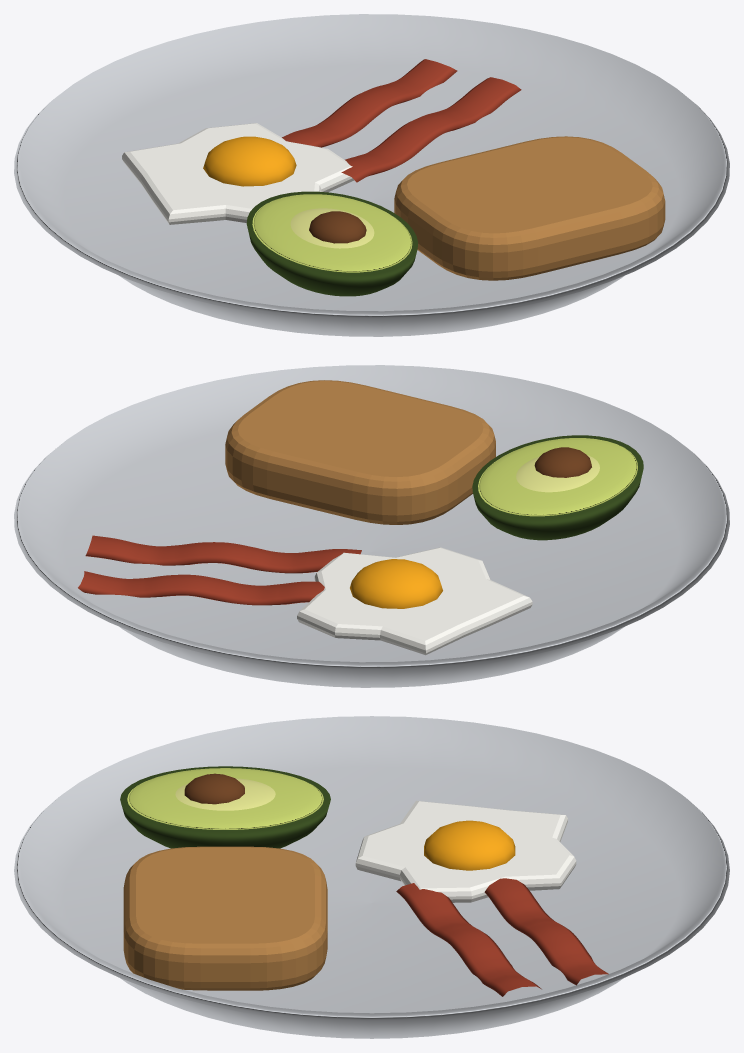
File: mezzogiorno-il-chiosco-s-brunch-plate.glb
The picture shows the model from 3 angles, top to bottom: view 1: azimuth 30°, elevation 25°; view 2: azimuth 150°, elevation 25°; view 3: azimuth 270°, elevation 25°; orthographic projection.
Bounding box in the file's own units: 0.22 × 0.0278 × 0.22.
